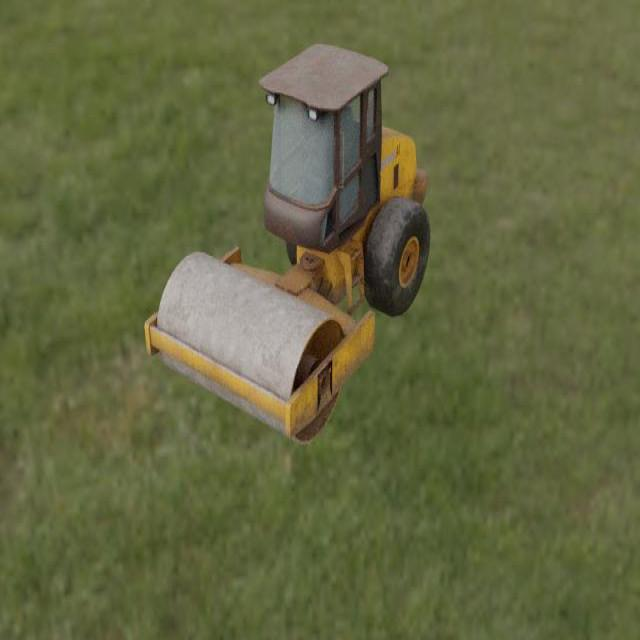Roller: (144, 43, 430, 444)
